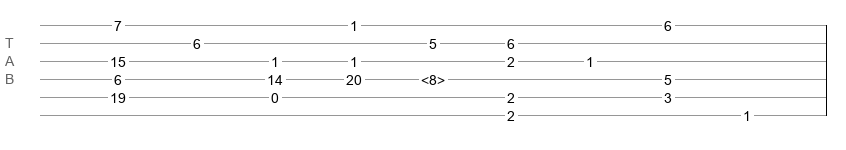0: (271, 90, 279, 100)
1: (271, 54, 279, 64), (350, 18, 358, 28), (350, 54, 358, 64), (586, 54, 594, 64), (743, 108, 751, 118)
14: (267, 72, 283, 82)
15: (110, 54, 126, 64)
19: (110, 90, 126, 100)
2: (507, 108, 515, 118), (507, 54, 515, 64), (507, 90, 515, 100)
20: (346, 72, 362, 82)
3: (664, 90, 672, 100)
5: (429, 36, 437, 46), (664, 72, 672, 82)
6: (114, 72, 122, 82), (193, 36, 201, 46), (507, 36, 515, 46), (664, 18, 672, 28)
7: (114, 18, 122, 28)
harmonic: (421, 72, 445, 82)
